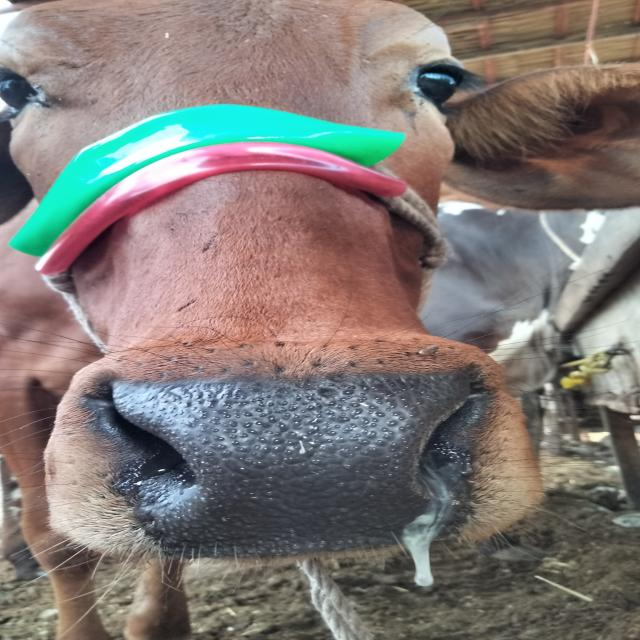muzzles: (91, 359, 518, 556)
